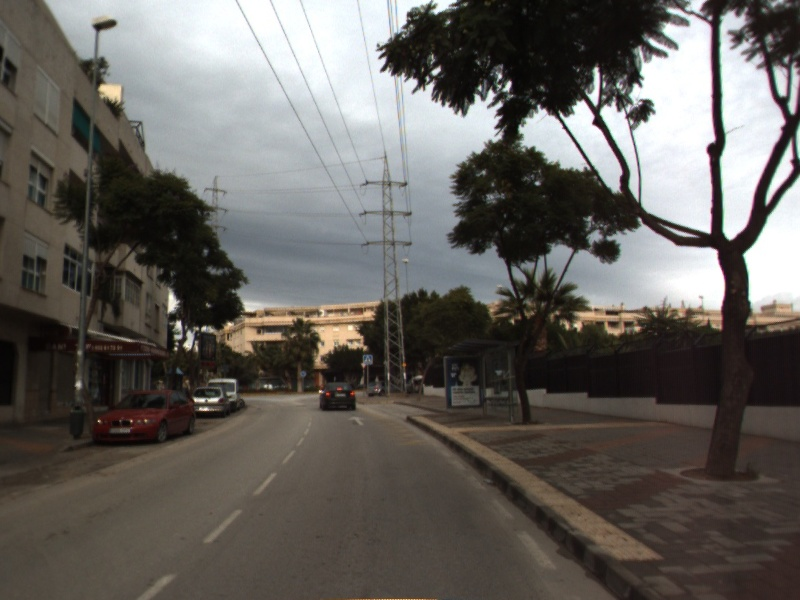STRAIGHT: (346, 414, 368, 427)
